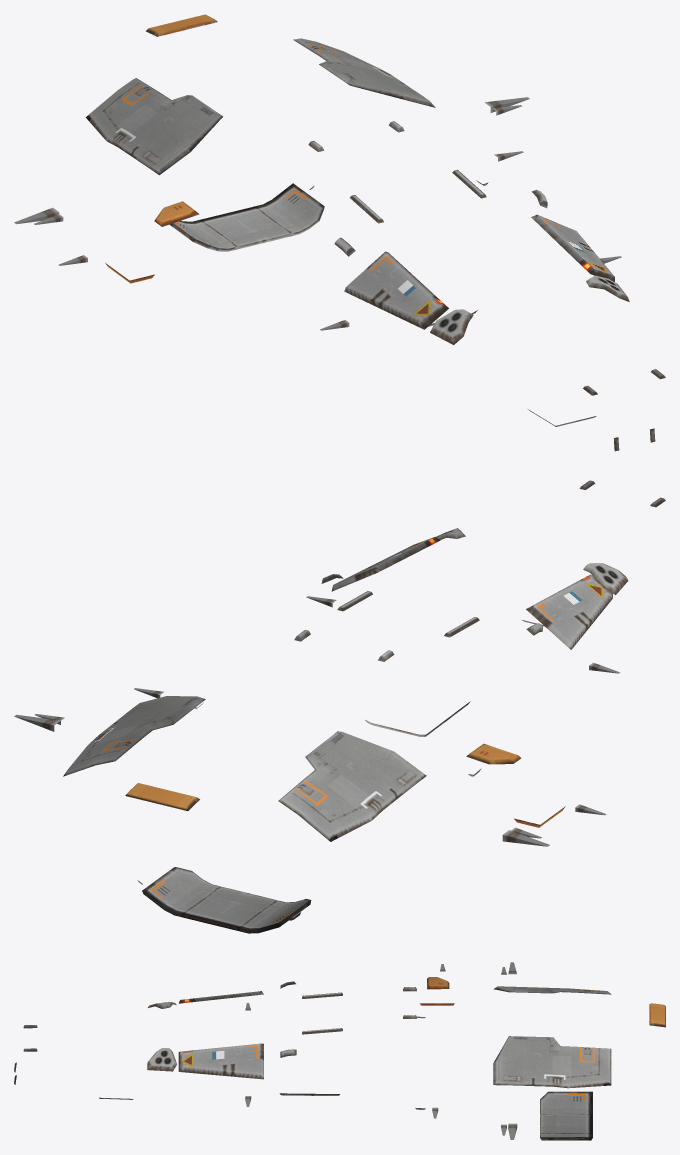
The model's file is hgn_cf_scou_01_t1.glb.
3 views of the same model, one above another, from view 1: azimuth 30°, elevation 25°; view 2: azimuth 150°, elevation 25°; view 3: azimuth 270°, elevation 25° (orthographic). The views are drawn at different scales.
Parts seen in each view (by area): view 1: hgn_scout_frigate_01_t1_LOD0; view 2: hgn_scout_frigate_01_t1_LOD0; view 3: hgn_scout_frigate_01_t1_LOD0.
Boxes of the visible parts, x1=… form: hgn_scout_frigate_01_t1_LOD0: x1=14, y1=14, x2=665, y2=451; hgn_scout_frigate_01_t1_LOD0: x1=14, y1=480, x2=665, y2=933; hgn_scout_frigate_01_t1_LOD0: x1=14, y1=962, x2=665, y2=1140.
Size of what is drawn, in the model's own units: 1.48 by 0.4797 by 2.27.
Materials: 1 (1 with a texture image).
